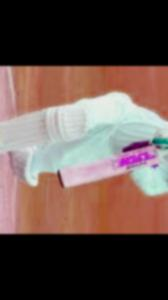batsman: (0, 77, 168, 215)
